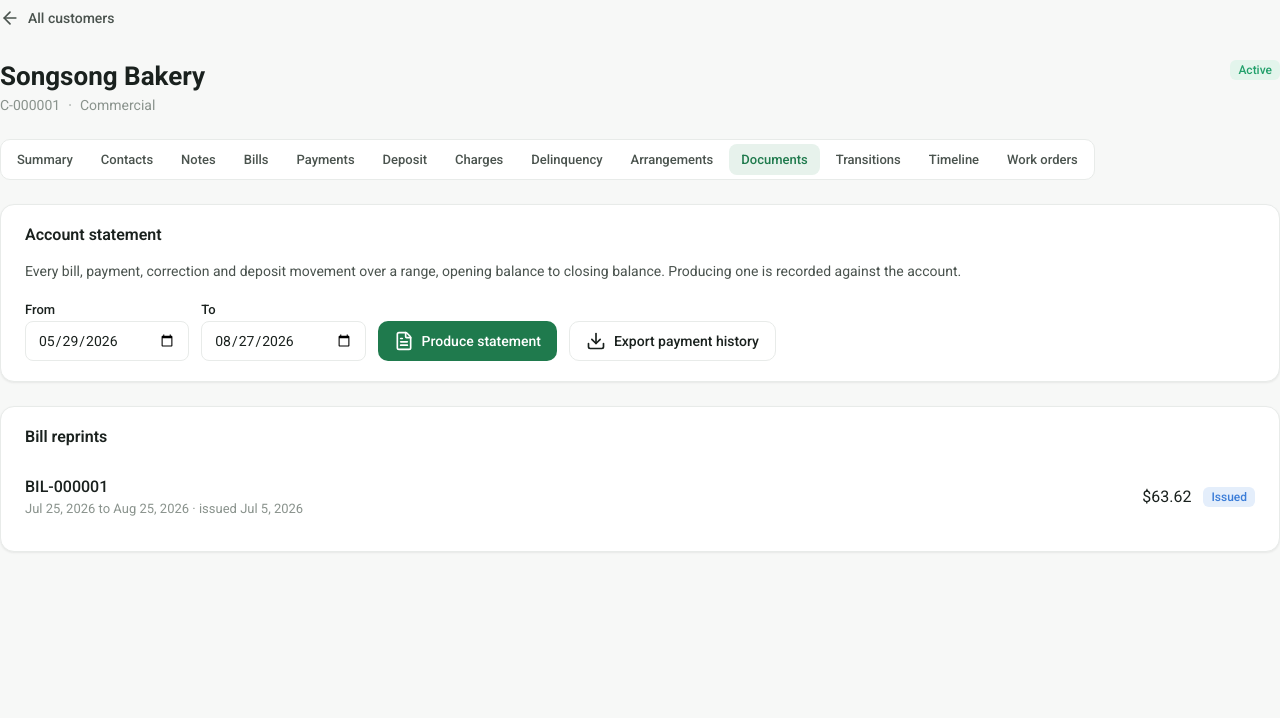
the documents tab › renders the statement from an opening balance to a closing balance
The width and height of the screenshot is (1280, 718).
Click the button "Produce statement". click: {"x": 467, "y": 341}
box: [378,321,557,361]
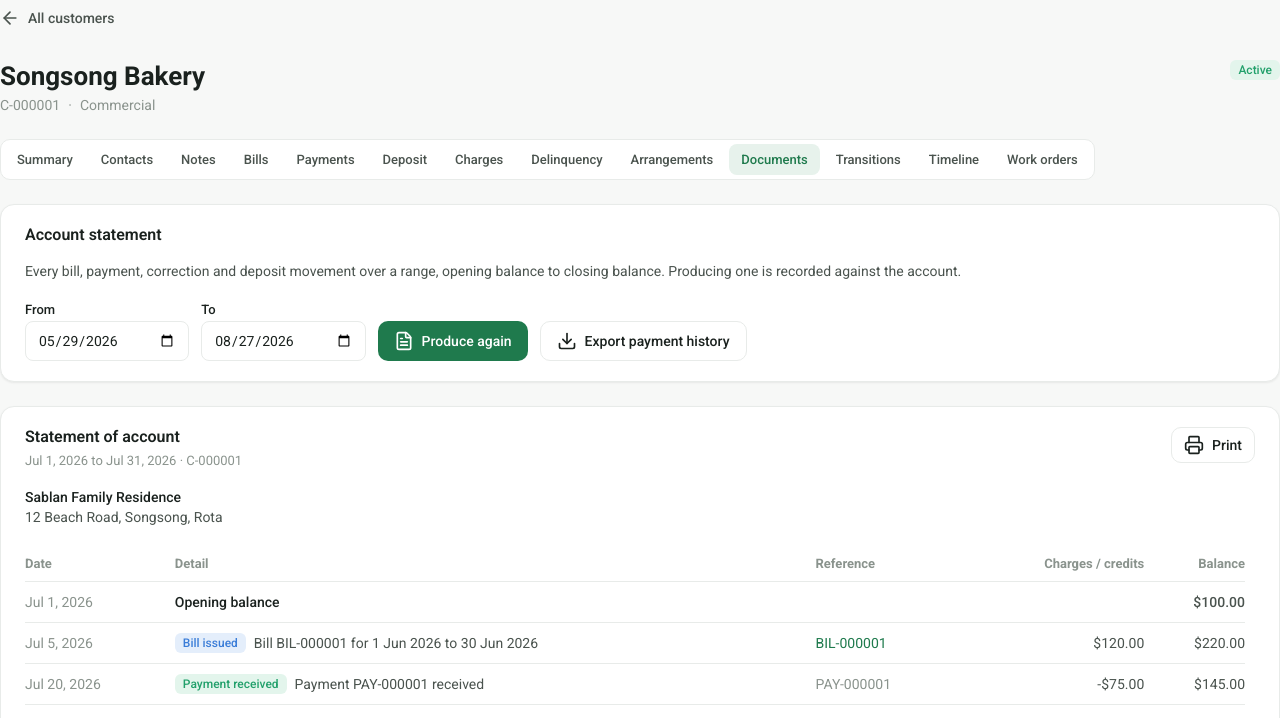
Check: the text "Opening balance" is shown, box [175,582,965,623]
Check: the text "$100.00" is shown, box [1156,582,1245,623]
Check: the text "$145.00" in the row of "Jul 20, 2026" is shown, box [1194,676,1245,692]
